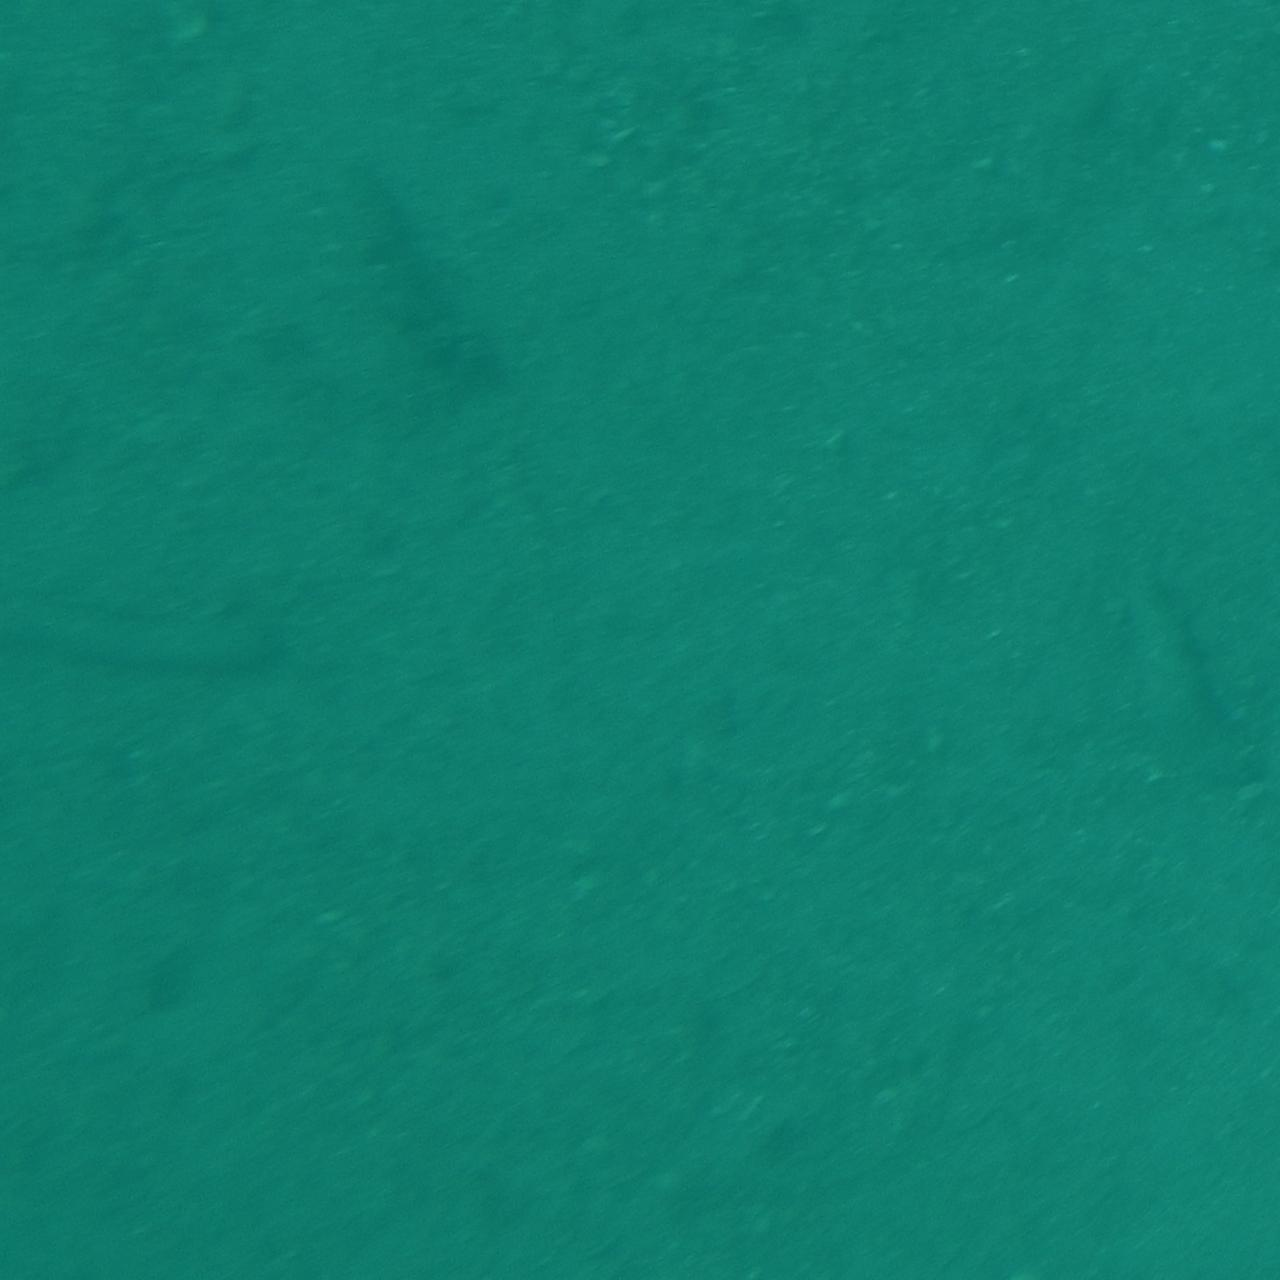Holothuria tubulosa: (0, 582, 282, 698)
